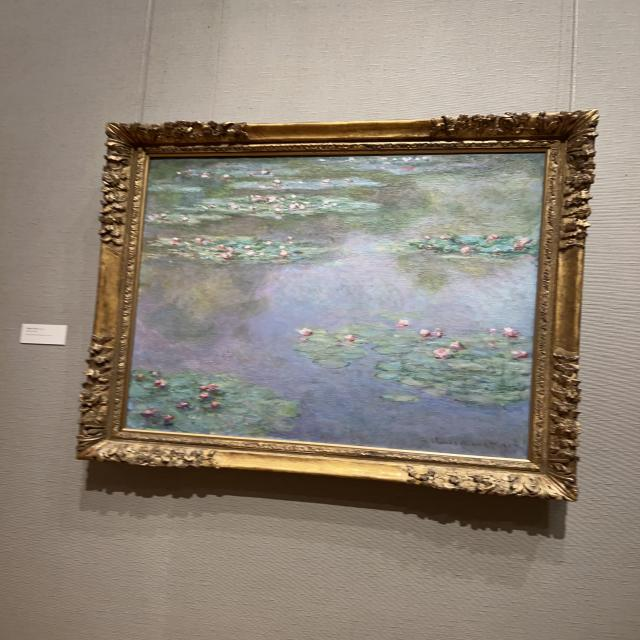lilies: (129, 156, 540, 453)
